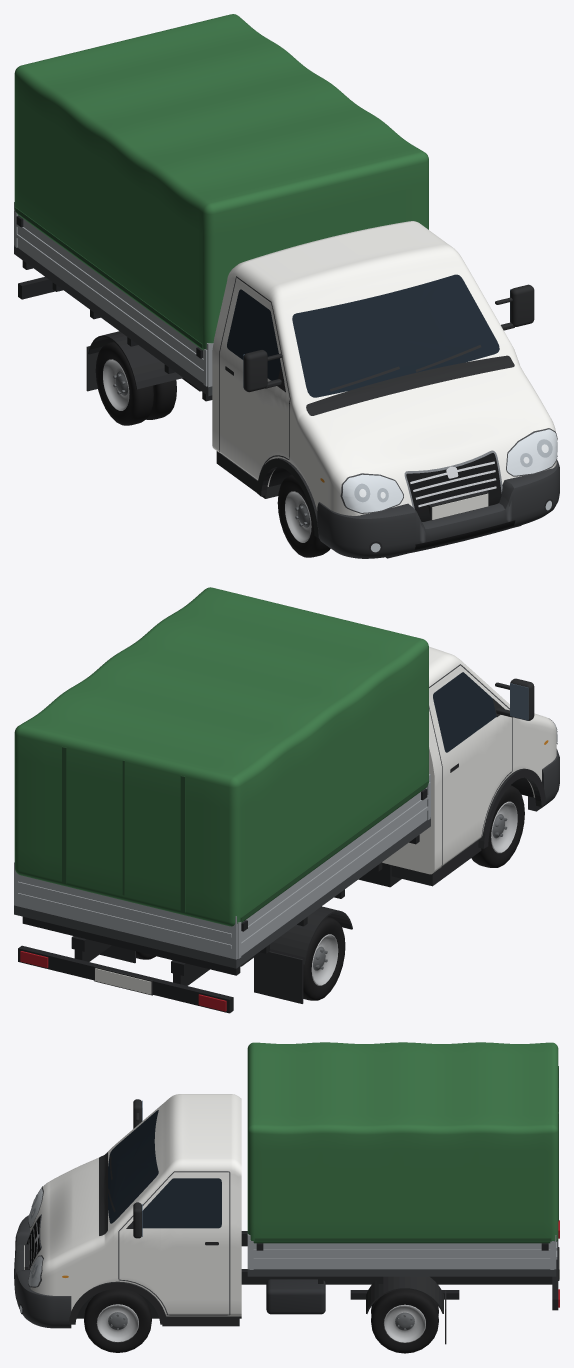
The model's file is gazel_green.glb.
3 views of the same model, one above another, from view 1: azimuth 30°, elevation 25°; view 2: azimuth 150°, elevation 25°; view 3: azimuth 270°, elevation 25° (orthographic). The views are drawn at different scales.
Visible parts, largest first — view 1: gazel_green; view 2: gazel_green; view 3: gazel_green.
Boxes of the visible parts, x1,y1,x2,y2 form: gazel_green: (14, 14, 559, 558); gazel_green: (14, 587, 559, 1013); gazel_green: (14, 1042, 559, 1353).
Size of the model in its own units: 2.67 by 2.57 by 5.52.
